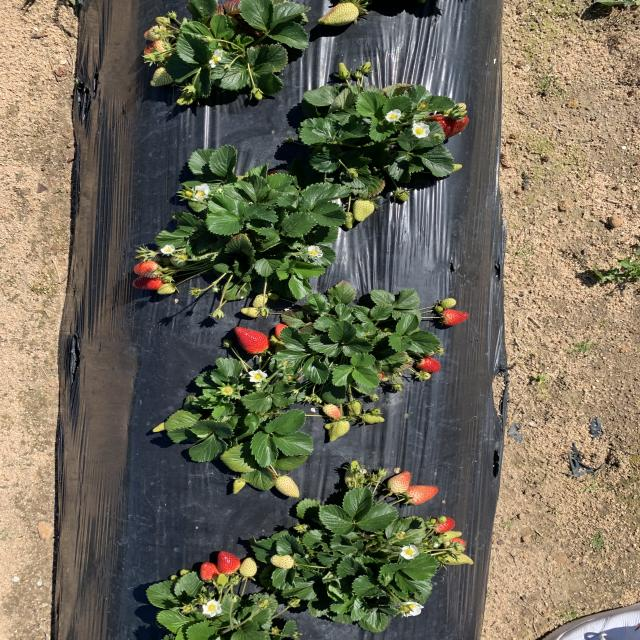unripe: (412, 108, 470, 141), (233, 326, 273, 356), (131, 272, 173, 291), (415, 353, 443, 374), (440, 309, 470, 327), (218, 550, 240, 573), (134, 261, 162, 277), (430, 515, 453, 532), (199, 562, 219, 581)
